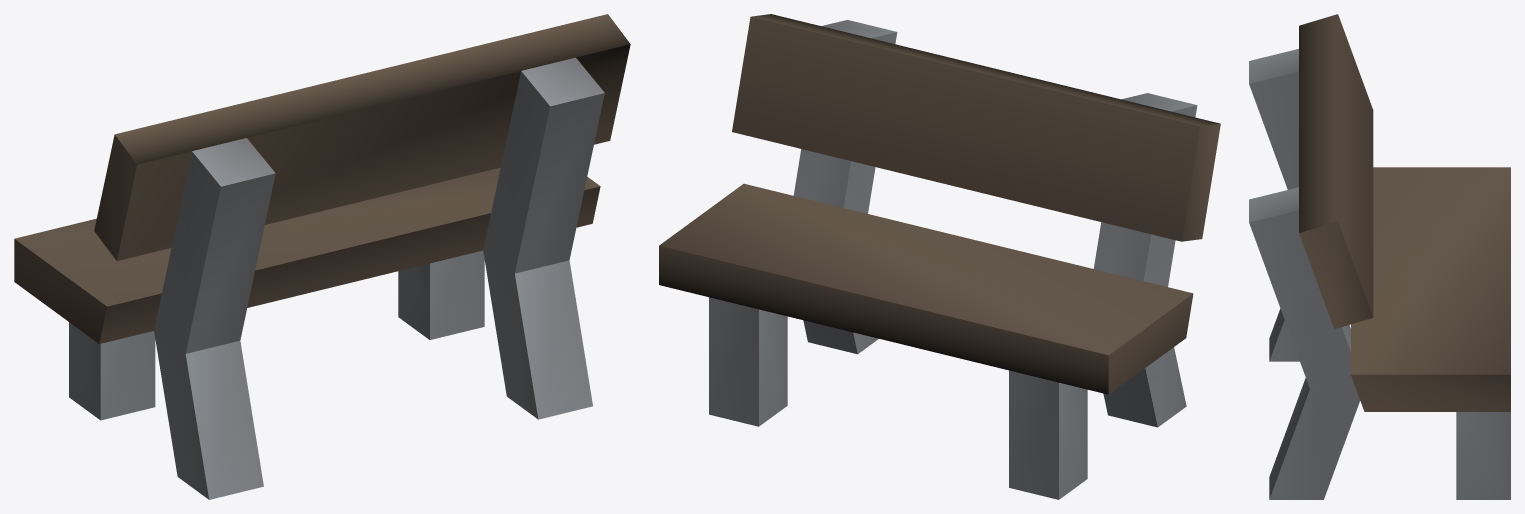
File: bench.glb
3 renders of one model, left to right at view 1: azimuth 30°, elevation 25°; view 2: azimuth 150°, elevation 25°; view 3: azimuth 270°, elevation 25°, orthographic. The views are drawn at different scales.
Parts seen in each view (by area): view 1: mesh; view 2: mesh; view 3: mesh.
Boxes of the visible parts, <box> form: mesh: <box>14,14,630,499</box>; mesh: <box>659,14,1220,499</box>; mesh: <box>1249,14,1510,499</box>.
Size of the model in its own units: 1.9 by 1.29 by 1.01.
